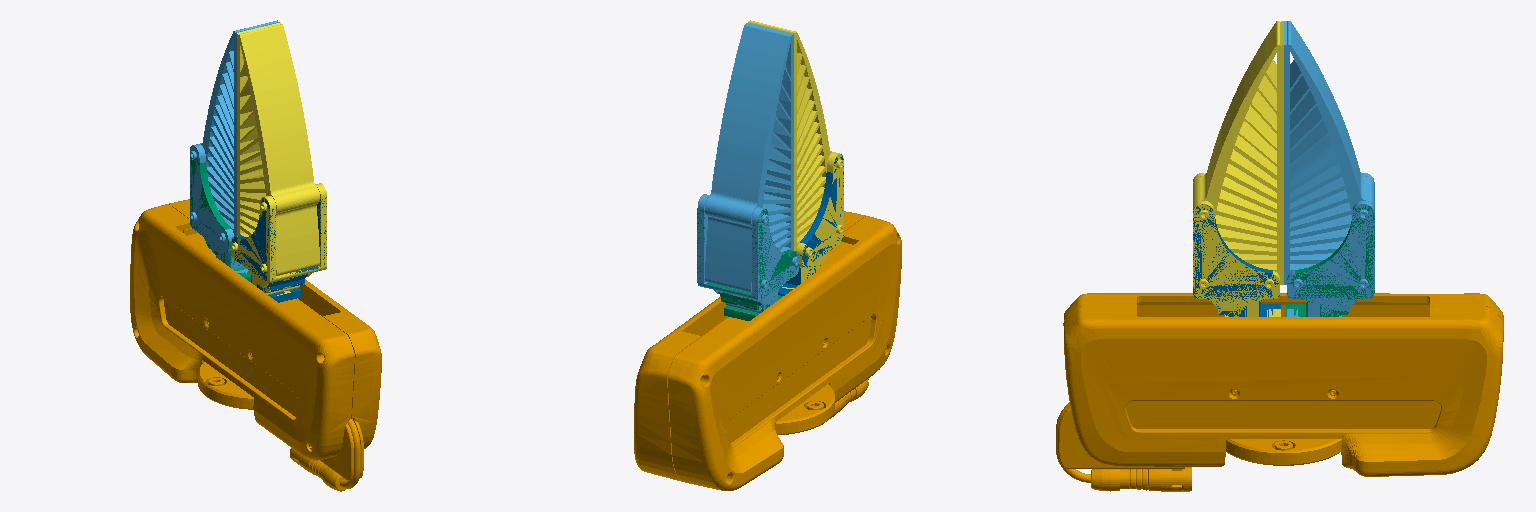
robot.urdf — panda:
<?xml version="1.0" ?>
<!-- =================================================================================== -->
<!-- |    This document was autogenerated by xacro from panda_arm_hand.urdf.xacro      | -->
<!-- |    EDITING THIS FILE BY HAND IS NOT RECOMMENDED                                 | -->
<!-- =================================================================================== -->
<robot name="panda" xmlns:xacro="http://www.ros.org/wiki/xacro">
 
  <link name="panda_hand">
  	<inertial>
      <origin rpy="0 0 0" xyz="0.001540105015344	0.001492254522239	0.002826647554898"/>
       <mass value=".81"/>
       <inertia ixx="0.1" ixy="0" ixz="0" iyy="0.1" iyz="0" izz="0.1"/>
    </inertial>
    <visual>
      <geometry>
        <mesh filename="./meshes/visual/hand.obj"/>
      </geometry>
      <material name="panda_white"/>
    </visual>
    <collision>
      <geometry>
        <mesh filename="./meshes/collision/hand.obj"/>
      </geometry>
      <material name="panda_white"/>
    </collision>
  </link>
  <link name="panda_leftfinger">
    <inertial>
      <mass value="0.099" />
      <origin rpy="0 0 0" xyz="0 0.029 0.0545" />
      <inertia ixx="0.000135" ixy="0.0" ixz="0.0" iyy="0.000128" iyz="0.000012" izz="0.000021" />
    </inertial>
    <visual>
      <origin rpy="0 0 0" xyz="0 0.01 0" />
      <geometry>
        <mesh filename="franka_fr3/finray_finger_L.obj" scale="1 1 1" />
      </geometry>
    </visual>
    <collision name="finray_finger_L_body_collision">
      <origin rpy="0 0 -1.57079632679" xyz="0 0.01 0" />
      <geometry>
        <mesh filename="franka_fr3/finray_finger_L.obj" scale="1 1 1" />
      </geometry>
    </collision>
  </link>
  <link name="panda_leftfinger_mount">
    <inertial>
      <mass value="0.099" />
      <origin rpy="0 0 0" xyz="0 0.029 0.0545" />
      <inertia ixx="0.000135" ixy="0.0" ixz="0.0" iyy="0.000128" iyz="0.000012" izz="0.000021" />
    </inertial>
    <visual>
      <origin rpy="0 0 -1.57079632679" xyz="0 0.01 0" />
      <geometry>
        <mesh filename="franka_fr3/finray_finger_L_mount_low.obj" scale="1 1 1" />
      </geometry>
    </visual>
    <collision name="finray_finger_L_mount_collision">
      <origin rpy="0 0 -1.57079632679" xyz="0 0.01 0" />
      <geometry>
        <mesh filename="franka_fr3/finray_finger_L_mount_low.obj" scale="1 1 1" />
      </geometry>
    </collision>
  </link>
  <link name="panda_rightfinger">
    <inertial>
      <mass value="0.099" />
      <origin rpy="0 0 0" xyz="0 -0.029 0.0545" />
      <inertia ixx="0.000135" ixy="0.0" ixz="0.0" iyy="0.000128" iyz="-0.000012" izz="0.000021" />
    </inertial>
    <visual>
      <origin rpy="0 0 0" xyz="0 -0.01 0" />
      <geometry>
        <mesh filename="franka_fr3/finray_finger_R.obj" scale="1 1 1" />
      </geometry>
    </visual>
    <collision name="finray_finger_R_body_collision">
      <origin rpy="0 0 -1.57079632679" xyz="0 -0.01 0" />
      <geometry>
        <mesh filename="franka_fr3/finray_finger_R.obj" scale="1 1 1" />
      </geometry>
    </collision>
  </link>
  <link name="panda_rightfinger_mount">
    <inertial>
      <mass value="0.099" />
      <origin rpy="0 0 0" xyz="0 -0.029 0.0545" />
      <inertia ixx="0.000135" ixy="0.0" ixz="0.0" iyy="0.000128" iyz="-0.000012" izz="0.000021" />
    </inertial>
    <visual>
      <origin rpy="0 0 -1.57079632679" xyz="0 -0.01 0" />
      <geometry>
        <mesh filename="franka_fr3/finray_finger_R_mount_low.obj" scale="1 1 1" />
      </geometry>
    </visual>
    <collision name="finray_finger_R_mount_collision">
      <origin rpy="0 0 -1.57079632679" xyz="0 -0.01 0" />
      <geometry>
        <mesh filename="franka_fr3/finray_finger_R_mount_low.obj" scale="1 1 1" />
      </geometry>
    </collision>
  </link>
  <joint name="panda_finger_joint1" type="prismatic">
    <parent link="panda_hand" />
    <child link="panda_leftfinger" />
    <origin rpy="0 0 0" xyz="0 -0.01 0.0584" />
    <axis xyz="0 1 0" />
    <limit effort="20" lower="0.0" upper="0.041" velocity="0.2" />
  </joint>
  <joint name="panda_finger_joint2" type="prismatic">
    <parent link="panda_hand" />
    <child link="panda_rightfinger" />
    <origin rpy="0 0 0" xyz="0 0.01 0.0584" />
    <axis xyz="0 1 0" />
    <limit effort="20" lower="-0.041" upper="0.0" velocity="0.2" />
  </joint>
  <link name="panda_grasptarget">
    <inertial>
      <origin rpy="0 0 0" xyz="0 0 0"/>
       <mass value="0.0"/>
       <inertia ixx="0.1" ixy="0" ixz="0" iyy="0.1" iyz="0" izz="0.1"/>
    </inertial>
  </link>
  <joint name="panda_grasptarget_hand" type="fixed">
    <parent link="panda_hand"/>
    <child link="panda_grasptarget"/>
    <origin rpy="0 0 0" xyz="0 0 0.105"/>
  </joint>

  <joint name="mount_joint_left" type="fixed">
    <parent link="panda_leftfinger"/>
    <child link="panda_leftfinger_mount"/>
    <origin rpy="0 0 0" xyz="0 0 0"/>
  </joint>

  <joint name="mount_joint_right" type="fixed">
    <parent link="panda_rightfinger"/>
    <child link="panda_rightfinger_mount"/>
    <origin rpy="0 0 0" xyz="0 0 0"/>
  </joint>
  
</robot>

--- Facts derived from the render (not from the file) ---
The picture shows the robot from 3 angles, left to right: view 1: azimuth 30°, elevation 25°; view 2: azimuth 150°, elevation 25°; view 3: azimuth 270°, elevation 25°; orthographic projection.
Robot: panda — 6 links, 5 joints (2 prismatic, 3 fixed); root link panda_hand; default pose: all joints at 0.
Visible links, largest first — view 1: panda_hand, panda_rightfinger, panda_leftfinger, panda_rightfinger_mount, panda_leftfinger_mount; view 2: panda_hand, panda_leftfinger, panda_rightfinger, panda_leftfinger_mount, panda_rightfinger_mount; view 3: panda_hand, panda_rightfinger, panda_leftfinger, panda_leftfinger_mount, panda_rightfinger_mount.
Link boxes in pixels (left/top/right/bottom): panda_hand: left=130, top=199, right=381, bottom=491; panda_rightfinger: left=231, top=22, right=326, bottom=295; panda_leftfinger: left=190, top=20, right=279, bottom=273; panda_rightfinger_mount: left=232, top=195, right=326, bottom=302; panda_leftfinger_mount: left=190, top=147, right=250, bottom=278; panda_hand: left=634, top=211, right=901, bottom=490; panda_leftfinger: left=697, top=23, right=798, bottom=313; panda_rightfinger: left=748, top=20, right=843, bottom=288; panda_leftfinger_mount: left=697, top=209, right=798, bottom=320; panda_rightfinger_mount: left=778, top=154, right=843, bottom=295; panda_hand: left=1056, top=293, right=1503, bottom=491; panda_rightfinger: left=1193, top=21, right=1283, bottom=316; panda_leftfinger: left=1284, top=21, right=1374, bottom=316; panda_leftfinger_mount: left=1286, top=205, right=1374, bottom=316; panda_rightfinger_mount: left=1193, top=204, right=1280, bottom=316.
Size in the robot's own frame: 0.0627 by 0.2046 by 0.2306 metres.
Meshes: 5 distinct files referenced, 5 mesh visuals loaded (5 OBJ).